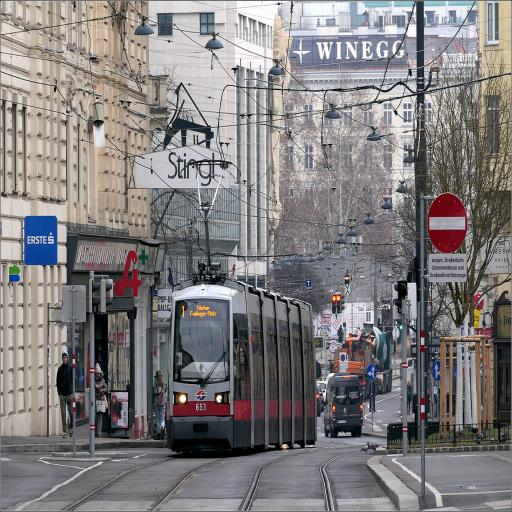ULF: (165, 280, 317, 452)
